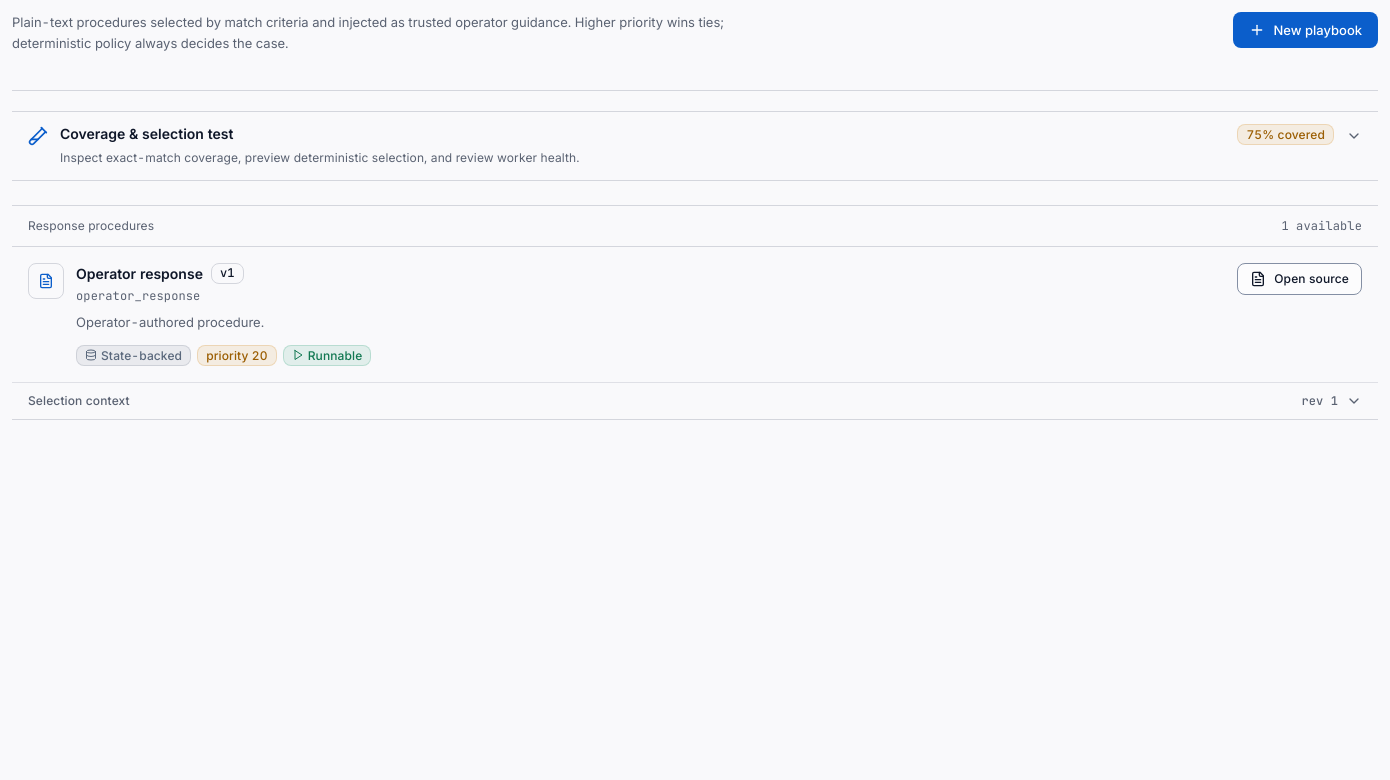
it: Playbooks Catalog management › shows bounded case coverage, uncovered rule families, and worker truth
The image size is (1390, 780).
Expected: the text "75% covered" is shown, [1237,124,1334,145]
What coordinates should you click on to do the following:
click the heading "Coverage & selection test"
I would click on:
 (147, 134)
Its box is [12,112,1378,180].
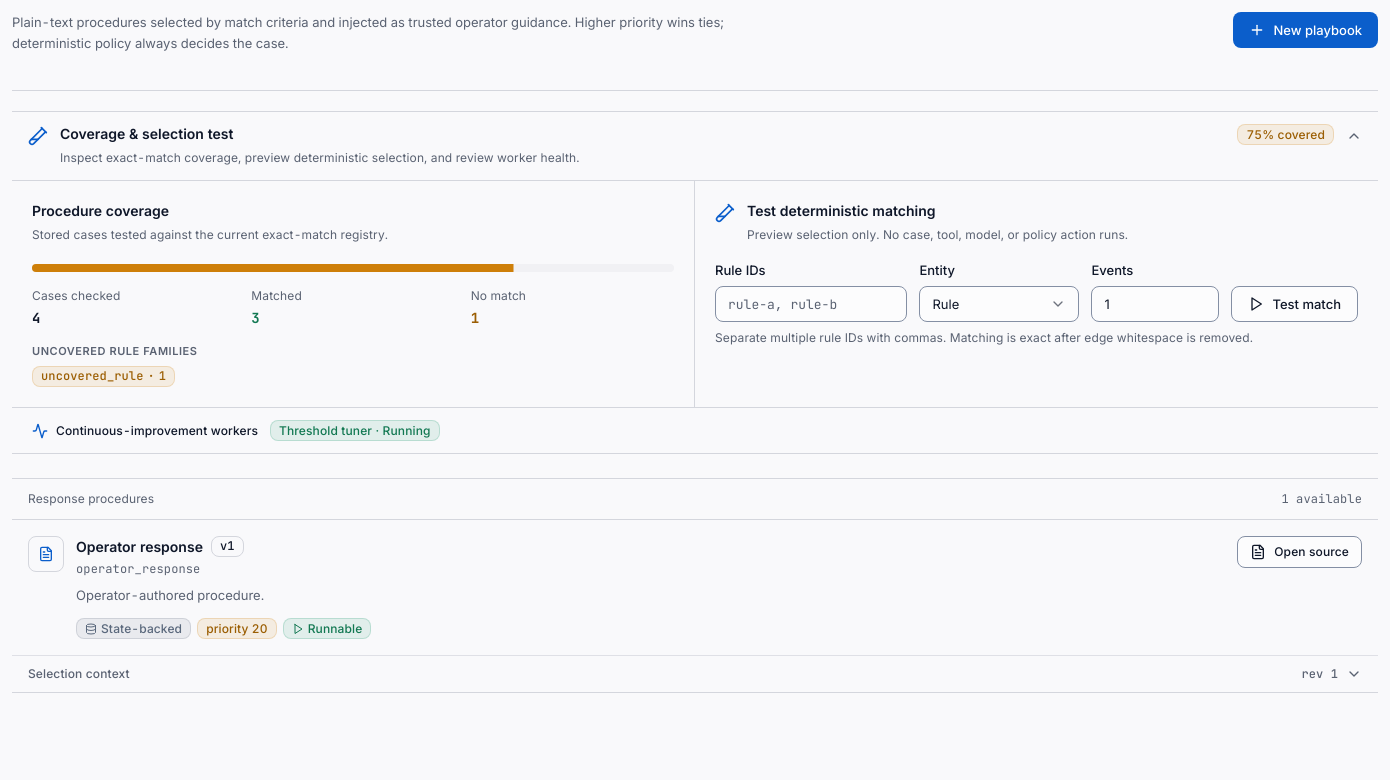
Result: the text "uncovered_rule" is shown at [41,369,144,384]
Result: the text "Threshold tuner · Running" is shown at [270,420,440,441]
Result: the progress indicator named "playbook coverage 75%" is shown at [32,264,674,272]
